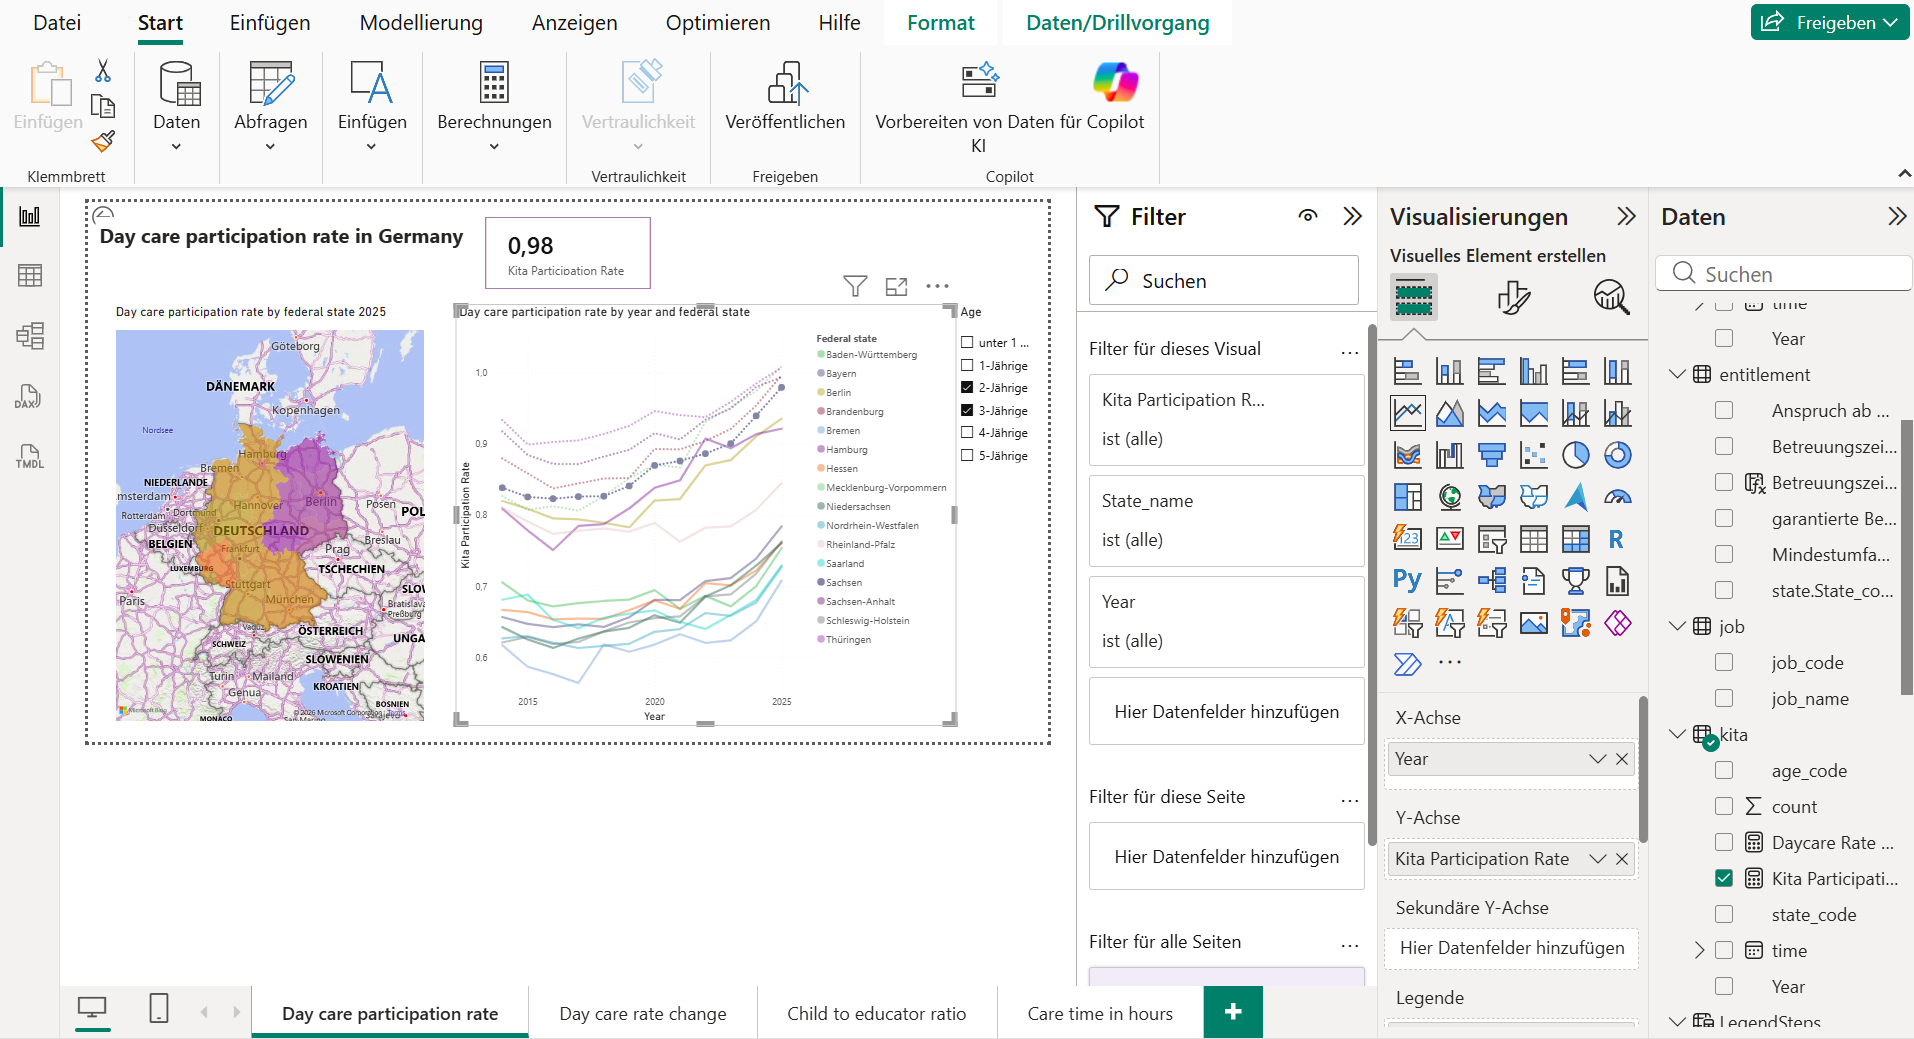

This screenshot's page, from the dashboard's own definition file:
{"tool":"powerbi","page":{"name":"Day care participation rate","canvas":[1280,720],"ordinal":0},"visuals":[{"type":"lineChart","title":"Day care participation rate by year and federal state","fields":{"Y":["kita.Kita Participation Rate"],"Category":["year.Year"],"Series":["state.State_name"]},"box":[489.1,136.3,669.3,561.8],"z":0},{"type":"filledMap","title":"Day care participation rate by federal state 2025","fields":{"Category":["state.State_name"]},"box":[32.1,136.1,421.4,561.3],"z":1000},{"type":"actionButton","box":[0,0,100,40],"z":2000},{"type":"textbox","box":[9.1,19.7,516.3,65.1],"z":3000},{"type":"cardVisual","title":"Day care participation rate 2025","fields":{"Data":["kita.Kita Participation Rate"]},"box":[530,20,220,96],"z":4000},{"type":"listSlicer","title":"Age","fields":{"Values":["age.Age_name"]},"box":[1158.4,136.1,120.9,223],"z":5000}]}

Visuals, with their boxes on the page's 1280x720 design canvas (x1, y1, x2, y2). These are canvas units, not pixel positions in the 1914x1039 screenshot, which may show the page scaled, cropped or inside an application window:
"Day care participation rate by year and federal state" lineChart: 489/136/1158/698
"Day care participation rate by federal state 2025" filledMap: 32/136/454/697
actionButton: 0/0/100/40
textbox: 9/20/525/85
"Day care participation rate 2025" cardVisual: 530/20/750/116
"Age" listSlicer: 1158/136/1279/359
